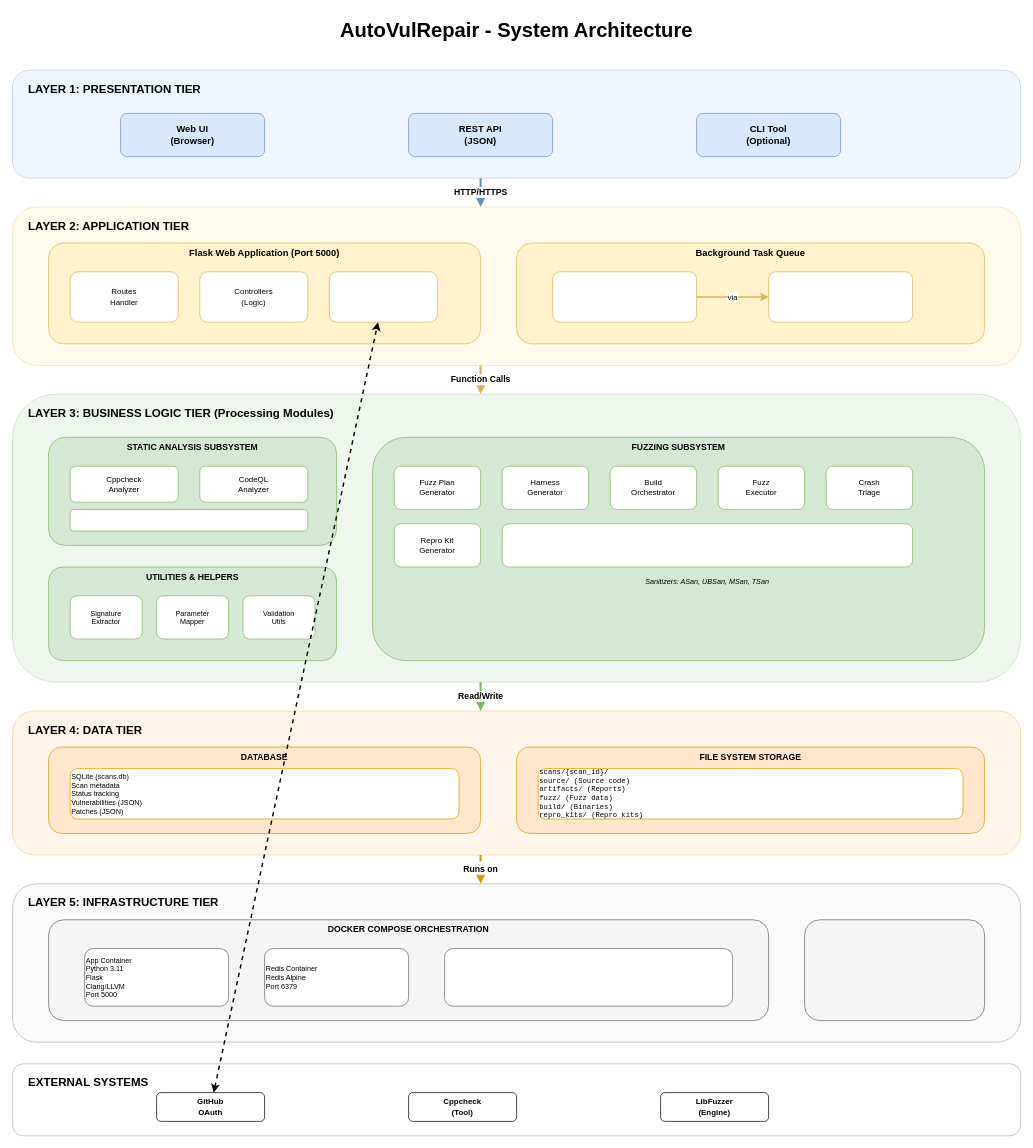
This 1033x1148 diagram has some shape labels left out. Here are the shapes that lost their labels. From the top down, the centre of each, then its label:
the point at 383,296: Auth (OAuth)
the point at 624,296: Celery Worker
the point at 840,296: Redis (Port 6379) Broker
the point at 188,520: Findings Converter
the point at 707,545: LibFuzzer Engine
the point at 588,977: Shared Volumes ./scans:/app/scans ./scans.db:/app/scans.db
the point at 894,970: HOST OPERATING SYSTEM Windows / Linux / macOS Docker Engine
